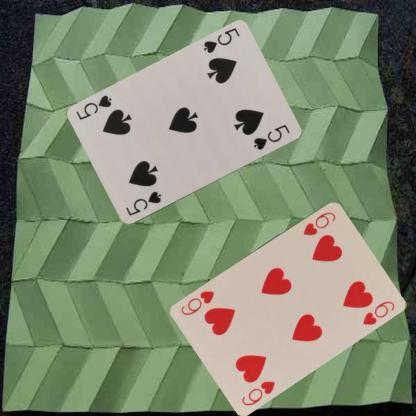5s: (200, 25, 241, 55), (122, 188, 162, 218)
6h: (300, 208, 338, 237), (239, 378, 277, 407)
